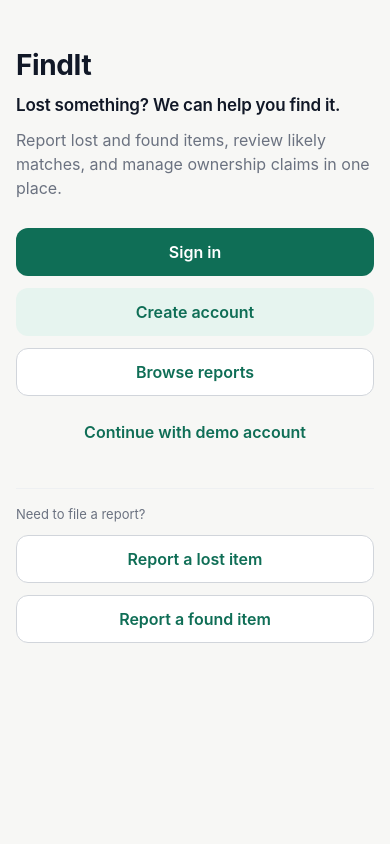
authentication flow › tells the user to check their email when confirmation is required
Expected: the text "Restoring your session" is not shown
Click the button "Create account" at [195, 312], box left=16, top=288, right=374, bottom=336
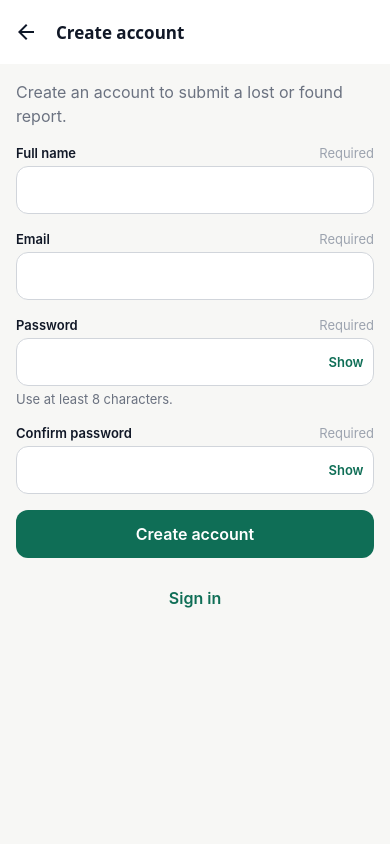
Type "Test User" into the field named "Full name" at [195, 190], box left=16, top=166, right=374, bottom=214
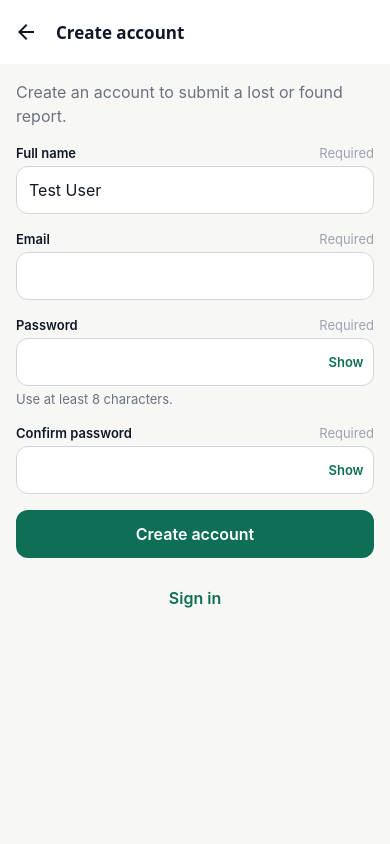
Type "user@example.com" into the field named "Email" at [195, 276], box left=16, top=252, right=374, bottom=300
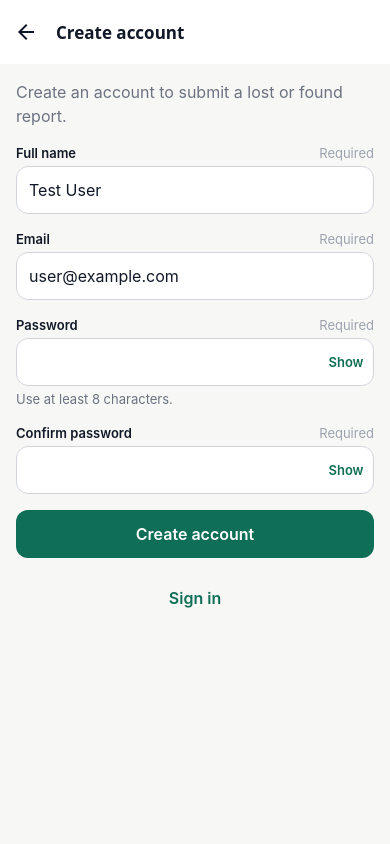
Type "password12" into the password field named "Password" at [195, 362], box left=16, top=338, right=374, bottom=386
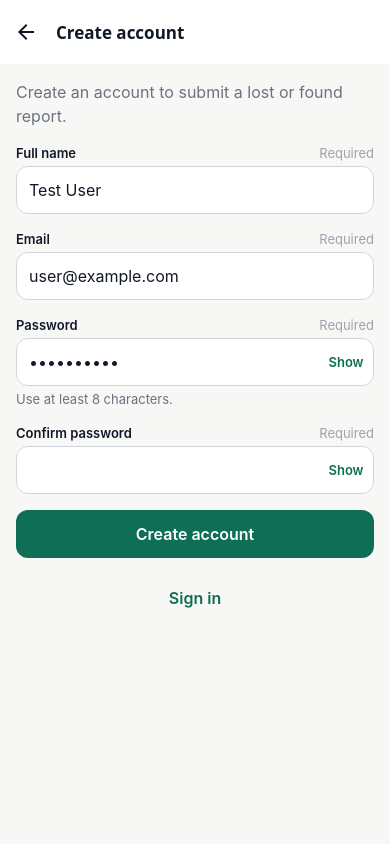
Type "password12" into the password field named "Confirm password" at [195, 470], box left=16, top=446, right=374, bottom=494
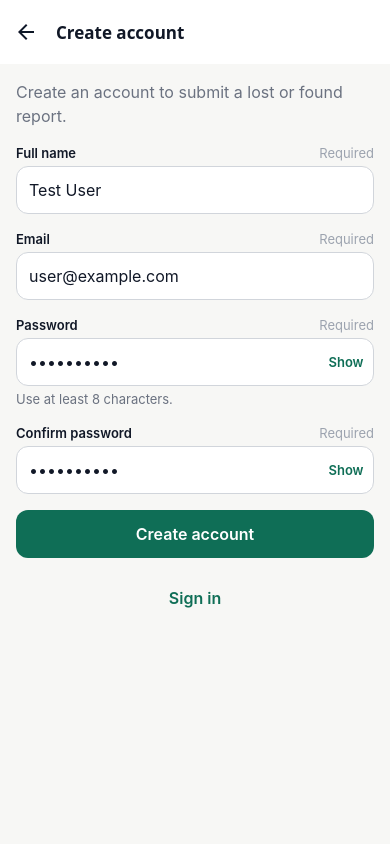
Click the button "Create account" at [195, 534], box left=16, top=510, right=374, bottom=558
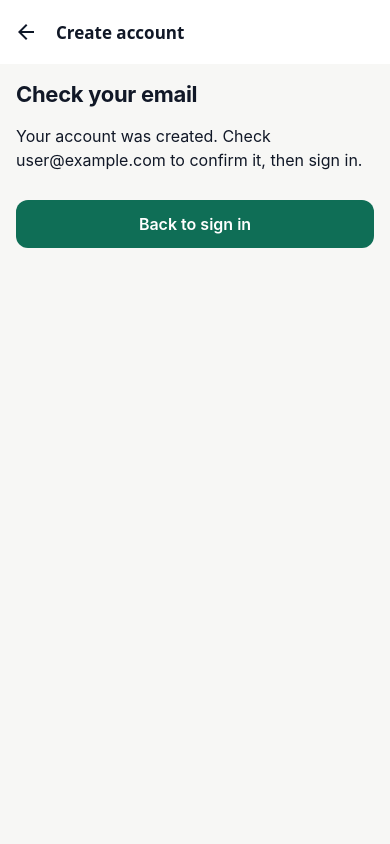
Expected: the button "Profile" is not shown
Expected: the heading "Check your email" is shown, left=16, top=81, right=197, bottom=107
Expected: the text "confirm it, then sign in" is shown, left=166, top=150, right=362, bottom=170
